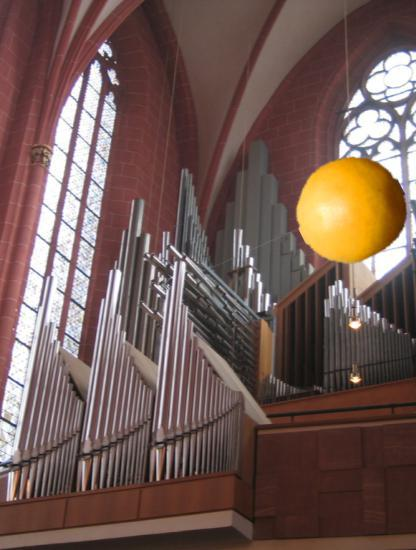Grapefruit: (295, 154, 406, 265)
